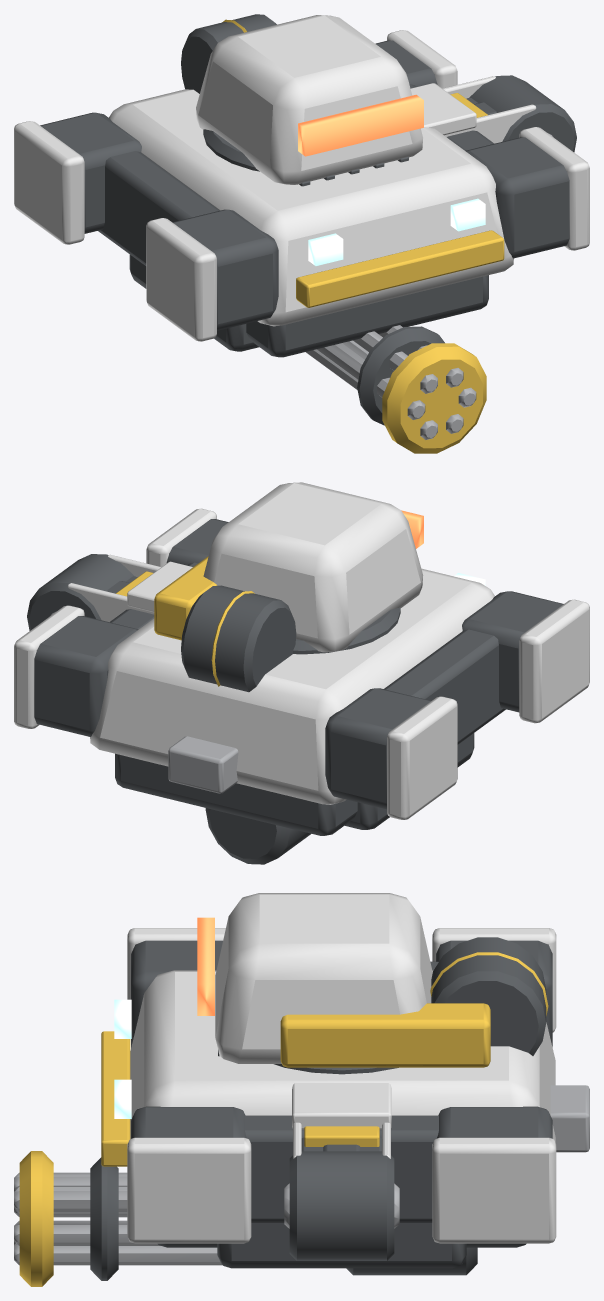
File: auto.glb
3 views of the same model, one above another, from view 1: azimuth 30°, elevation 25°; view 2: azimuth 150°, elevation 25°; view 3: azimuth 270°, elevation 25° (orthographic). The views are drawn at different scales.
Parts seen in each view (by area): view 1: Hull, Turret, Barrel, LegUpper; view 2: Hull, Turret, LegUpper, Barrel; view 3: Hull, Turret, LegUpper, Barrel, LegLower.
Part boxes in pixels (x1=…): Hull: x1=14, y1=14, x2=589, y2=357; Turret: x1=196, y1=15, x2=423, y2=184; Barrel: x1=305, y1=325, x2=486, y2=453; LegUpper: x1=410, y1=75, x2=576, y2=152; Hull: x1=14, y1=508, x2=589, y2=835; Turret: x1=154, y1=482, x2=423, y2=654; LegUpper: x1=27, y1=554, x2=192, y2=630; Barrel: x1=205, y1=808, x2=311, y2=864; Hull: x1=101, y1=928, x2=589, y2=1268; Turret: x1=197, y1=893, x2=490, y2=1074; LegUpper: x1=284, y1=1083, x2=399, y2=1260; Barrel: x1=14, y1=1151, x2=477, y2=1286; LegLower: x1=304, y1=1126, x2=379, y2=1151.
Size of the model in its own units: 0.8259 by 0.5465 by 0.7895.
